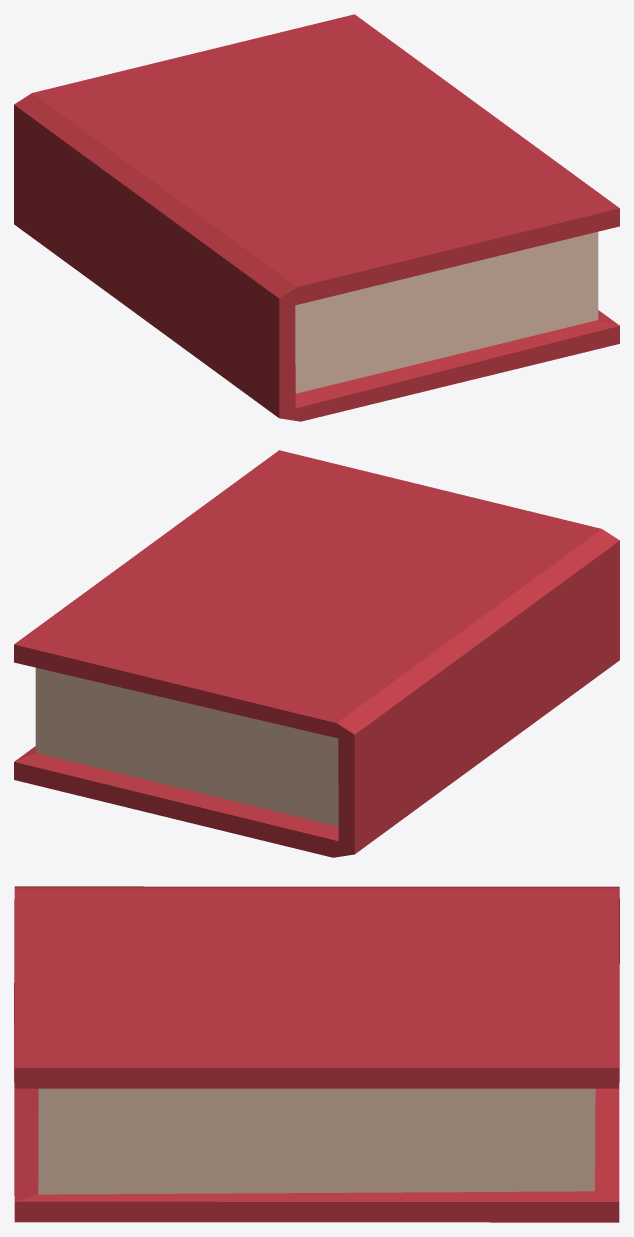
3 views of the same model, one above another, from view 1: azimuth 30°, elevation 25°; view 2: azimuth 150°, elevation 25°; view 3: azimuth 270°, elevation 25° (orthographic). The views are drawn at different scales.
Visible parts, largest first — view 1: Cube.010; view 2: Cube.010; view 3: Cube.010.
Part boxes in pixels (x1,y1,x2,y2): Cube.010: (14,14,619,421); Cube.010: (14,450,619,857); Cube.010: (14,886,619,1222).
Size of the model in its own units: 27.2 by 10.34 by 36.74.
